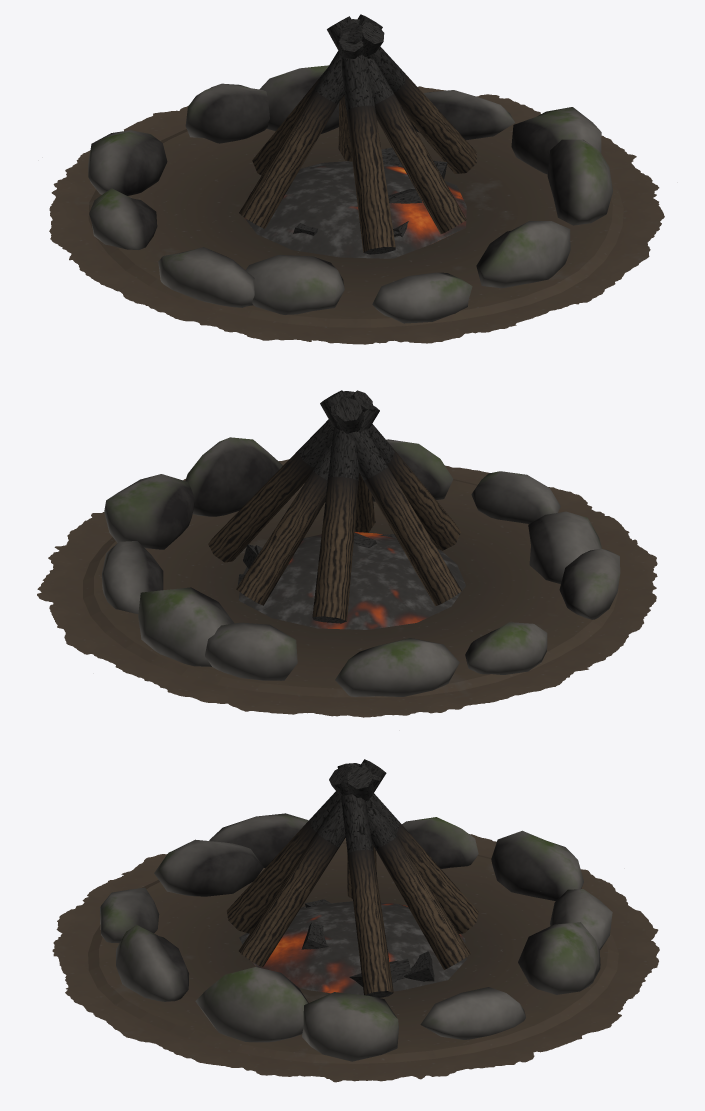
File: 캠프파이어.fbx
3 views of the same model, one above another, from view 1: azimuth 30°, elevation 25°; view 2: azimuth 150°, elevation 25°; view 3: azimuth 270°, elevation 25° (orthographic).
Parts seen in each view (by area): view 1: 캠프파이어; view 2: 캠프파이어; view 3: 캠프파이어.
Boxes of the visible parts, x1,y1,x2,y2 form: 캠프파이어: [49, 14, 664, 344]; 캠프파이어: [37, 390, 657, 717]; 캠프파이어: [52, 759, 659, 1082].
Size of the model in its own units: 1227 by 394 by 1254.
6 materials, 6 textured.
